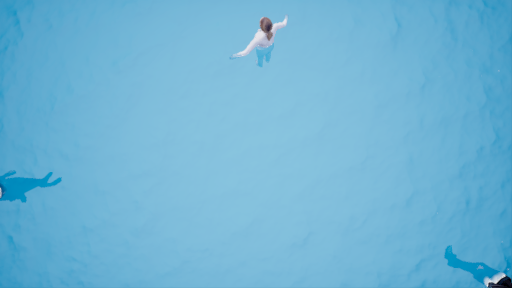person: (231, 7, 286, 70)
